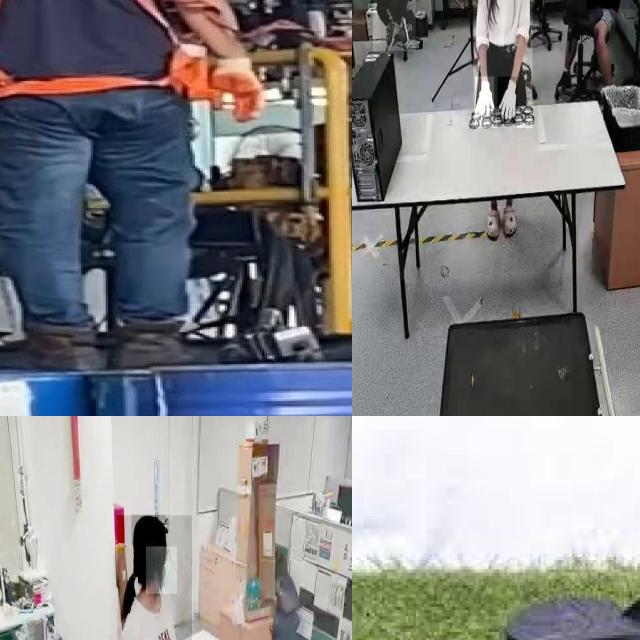Harness: (0, 0, 215, 104)
Sandals: (352, 537, 640, 640)
face_mask: (146, 546, 177, 594)
hand_glove: (498, 76, 518, 130), (475, 76, 495, 126)
head_nohelmet: (132, 514, 166, 546)
person: (117, 515, 192, 640), (473, 0, 532, 129), (373, 0, 416, 51)
shoes: (381, 13, 397, 49), (396, 12, 409, 47)
